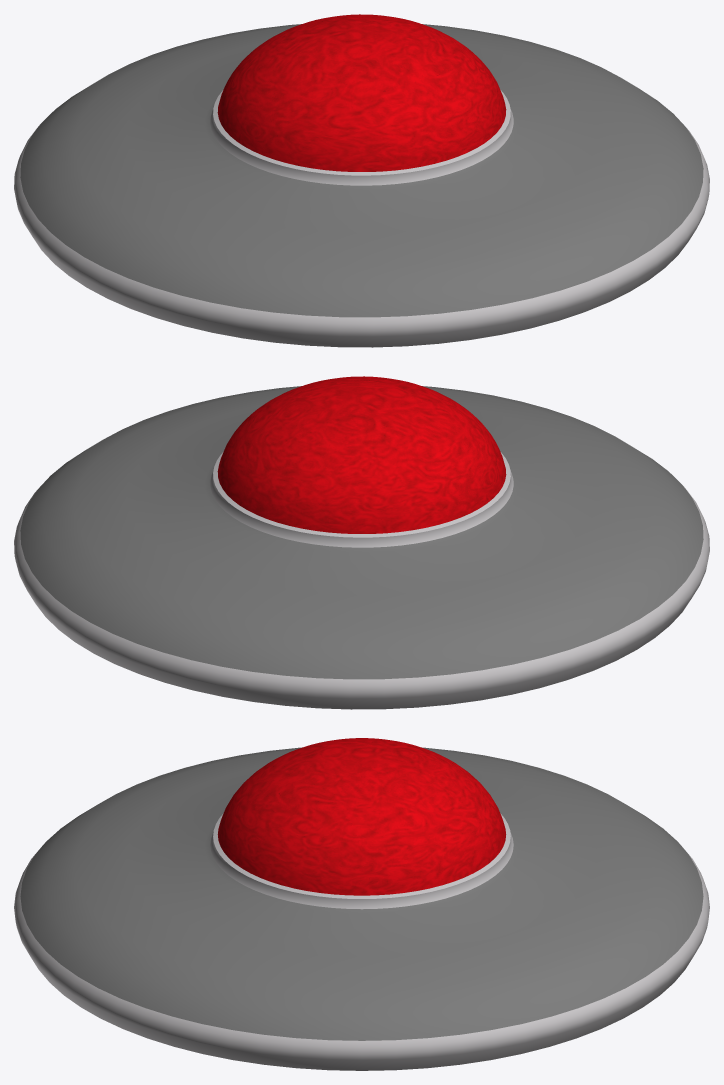
Rendered from UfoSpaceGame.fbx.
3 renders of one model, top to bottom at view 1: azimuth 30°, elevation 25°; view 2: azimuth 150°, elevation 25°; view 3: azimuth 270°, elevation 25°, orthographic.
Visible parts, largest first — view 1: Sphere; view 2: Sphere; view 3: Sphere.
Part boxes in pixels (bbox=[...]): Sphere: bbox=[14, 14, 709, 347]; Sphere: bbox=[14, 376, 709, 709]; Sphere: bbox=[14, 738, 709, 1070].
Size of the model in its own units: 465 by 183 by 465.
3 materials, 1 textured.
